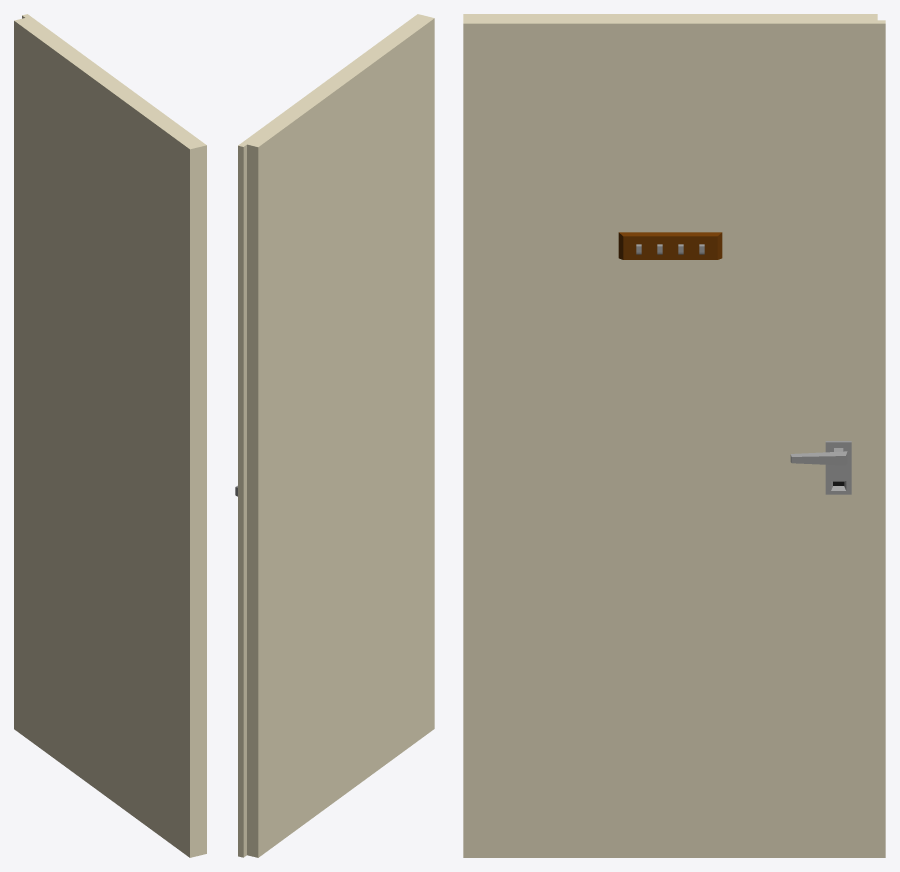
The model's file is Puerta Hab.fbx.
3 views of the same model, side by side, from view 1: azimuth 30°, elevation 25°; view 2: azimuth 150°, elevation 25°; view 3: azimuth 270°, elevation 25° (orthographic). The views are drawn at different scales.
Visible parts, largest first — view 1: Puerta; view 2: Puerta; view 3: Puerta.
Boxes of the visible parts, box(x1,y1,x2,y2) form: Puerta: box(14, 14, 206, 857); Puerta: box(235, 14, 434, 857); Puerta: box(463, 14, 885, 857).
Size of the model in its own units: 10.77 by 200 by 91.75.
1 material, 1 textured.
